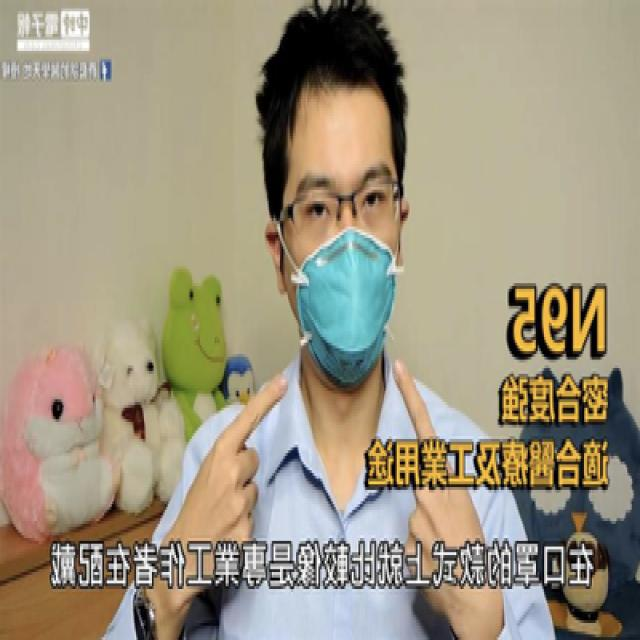with_mask: (284, 156, 402, 382)
